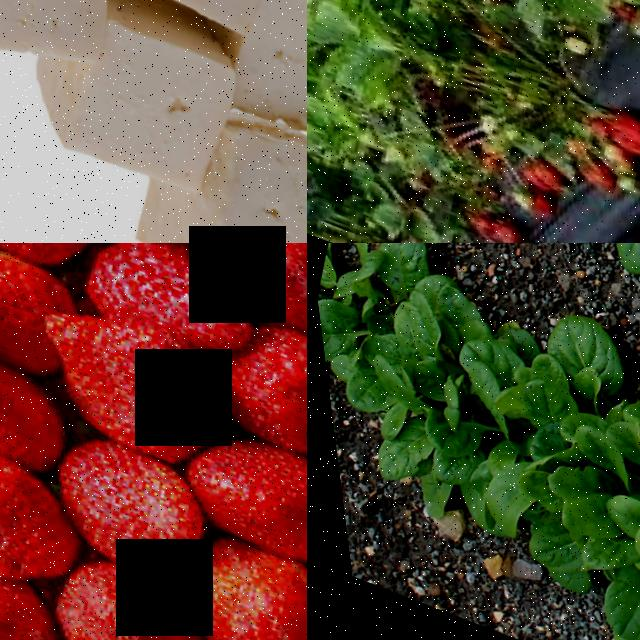spinach: (522, 295, 633, 404), (571, 553, 640, 640), (500, 509, 578, 581), (539, 479, 614, 546), (384, 286, 450, 360), (328, 367, 387, 419), (609, 508, 640, 582)
strawberry: (8, 284, 237, 476), (17, 545, 198, 640), (169, 525, 307, 640), (67, 243, 221, 337), (208, 312, 307, 457), (0, 435, 86, 601), (0, 243, 63, 371), (183, 243, 307, 302)
tofu: (0, 15, 225, 205), (141, 82, 307, 243), (208, 0, 307, 128)
